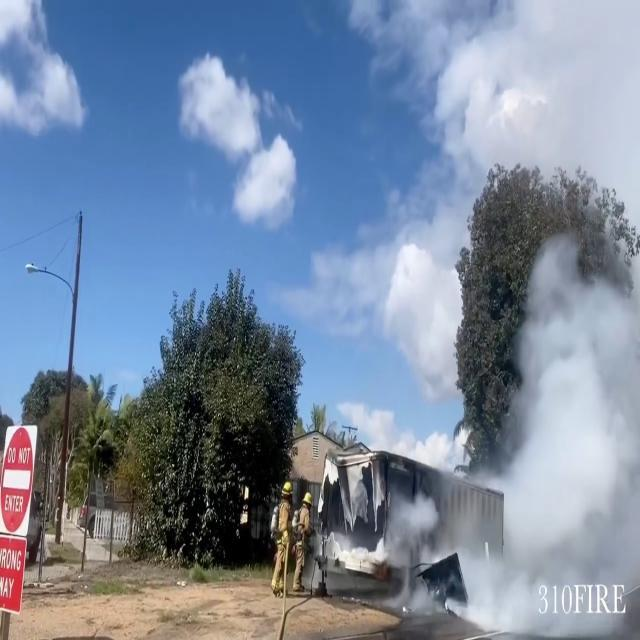Smoke: (480, 162, 640, 620)
